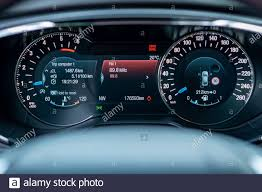Digital_Meter: (98, 94, 160, 103)
